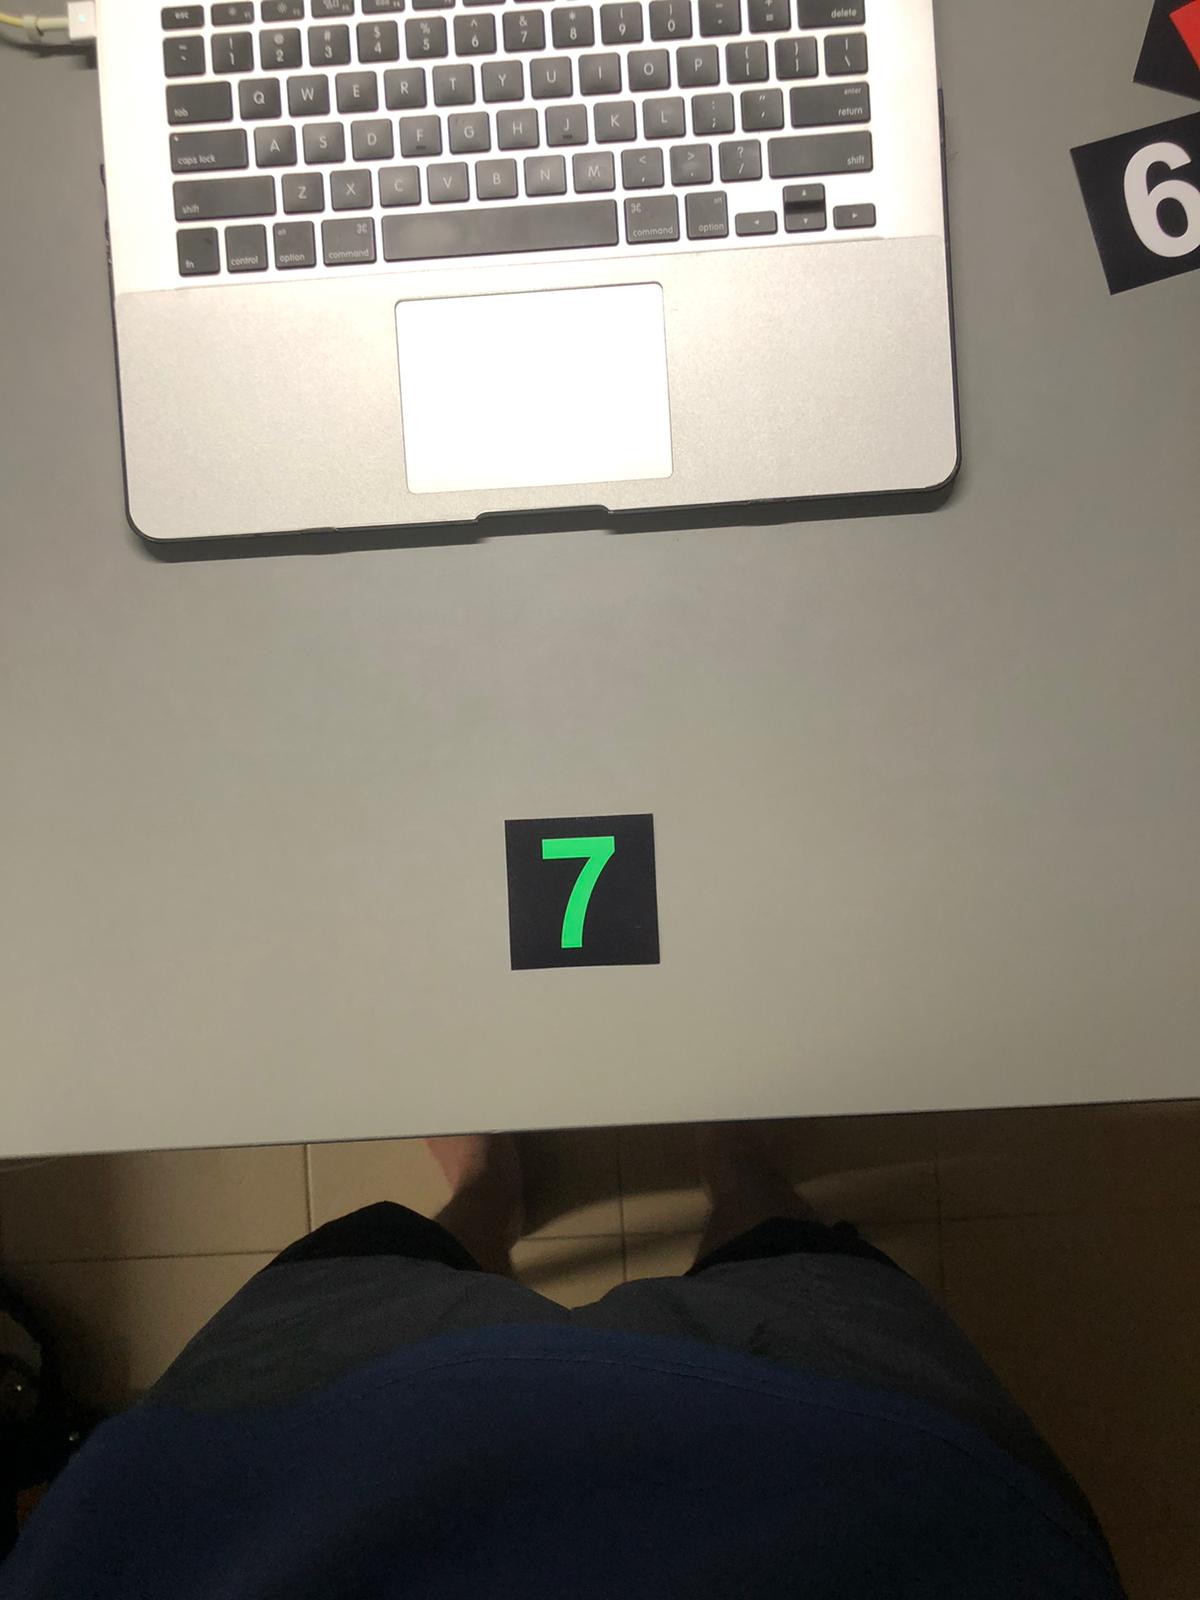Number 7: (504, 819, 655, 971)
